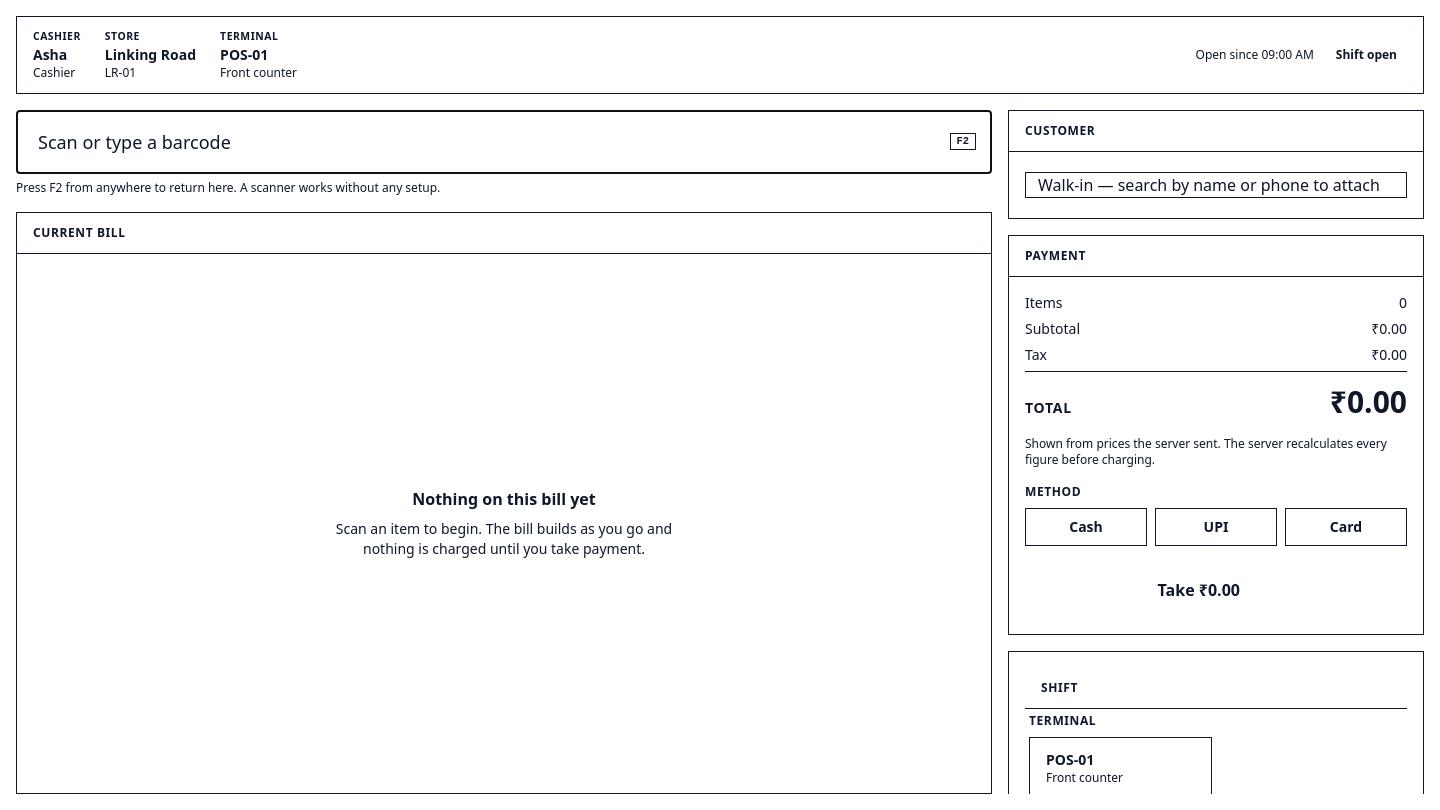
Scenario: accessible names › gives every control a name a screen reader can announce
Type "8901234567890" into the field labelled "Scan or type a barcode" at (504, 142), box top-left (16, 110), bottom-right (992, 174)
Then press Enter
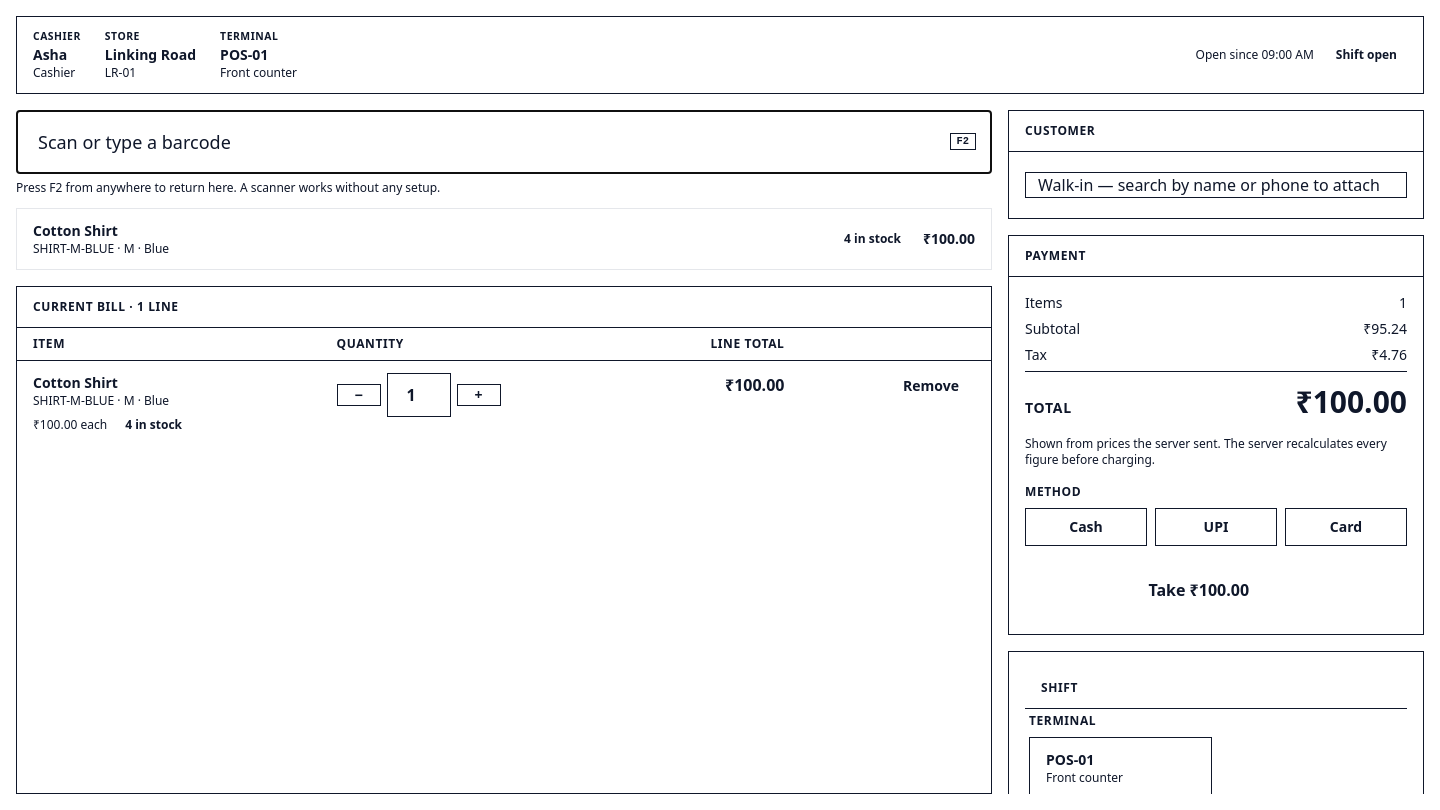
Now the number field named "quantity of Cotton Shirt" is shown, box top-left (386, 373), bottom-right (450, 417)
